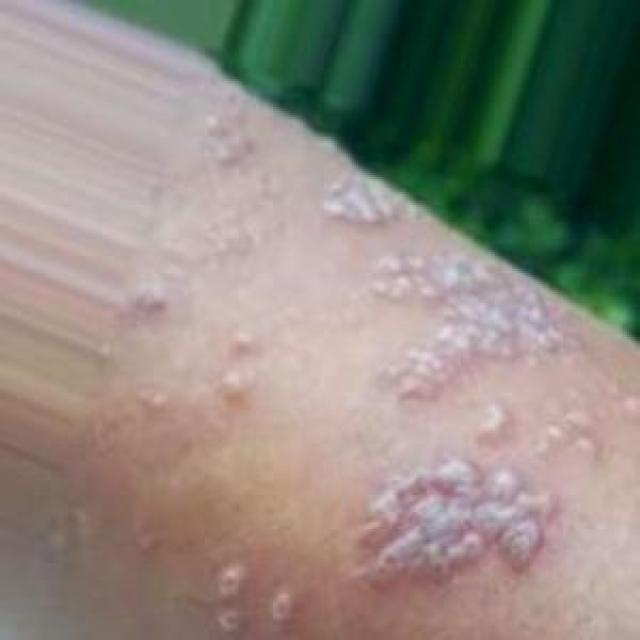Shingles: (364, 239, 590, 391), (347, 458, 561, 588), (319, 165, 420, 238), (214, 569, 302, 635)
